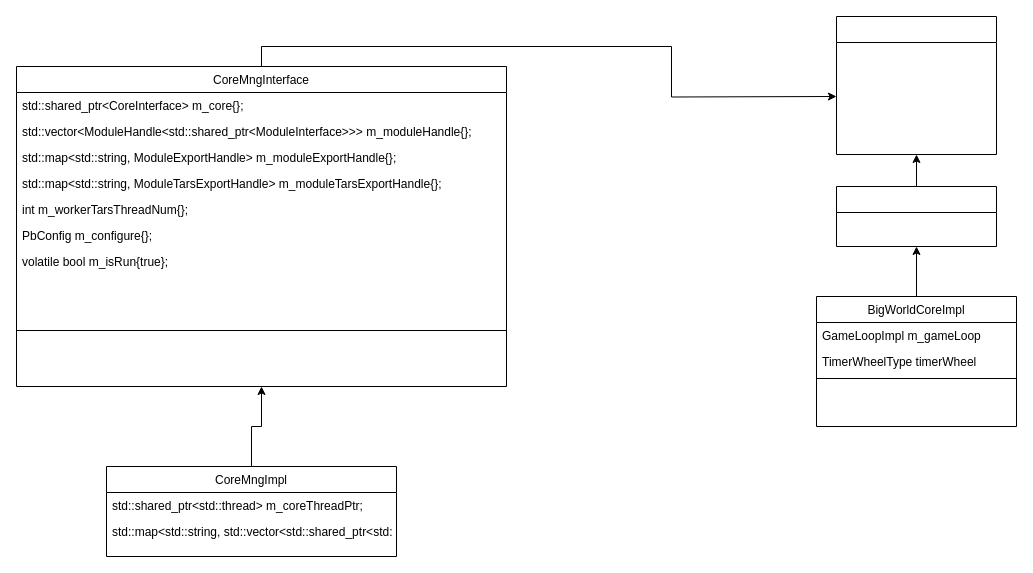
Some shapes in this 1033 by 573 pixel diagram are drawn without their labels. The centre of each missing label's shape, as x and y in pixels:
CoreInterface: (x=916, y=216)
Jsonable: (x=916, y=85)
